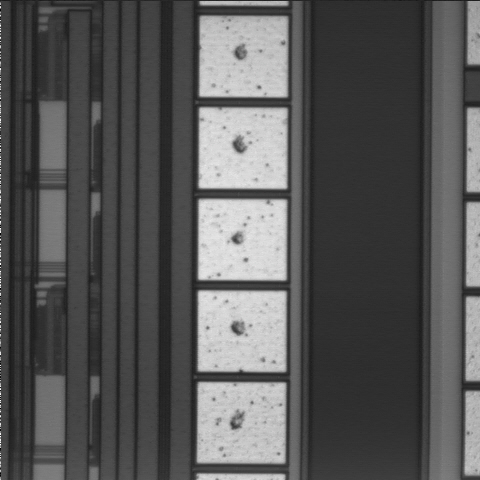pad: (199, 108, 287, 189), (198, 199, 286, 280), (198, 291, 286, 372), (197, 383, 285, 463), (200, 17, 287, 97)
